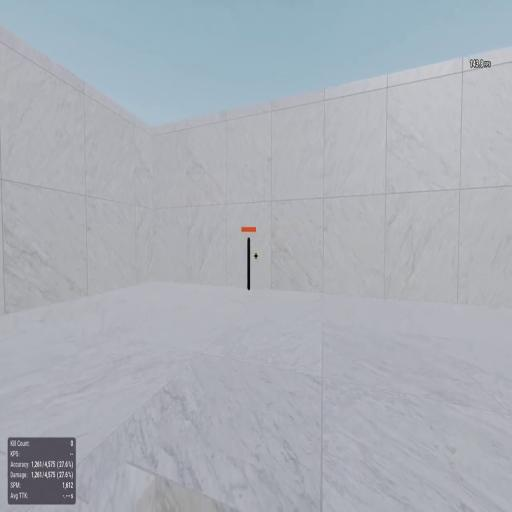Crosshair: (253, 252, 259, 260)
Target: (247, 237, 251, 289)
